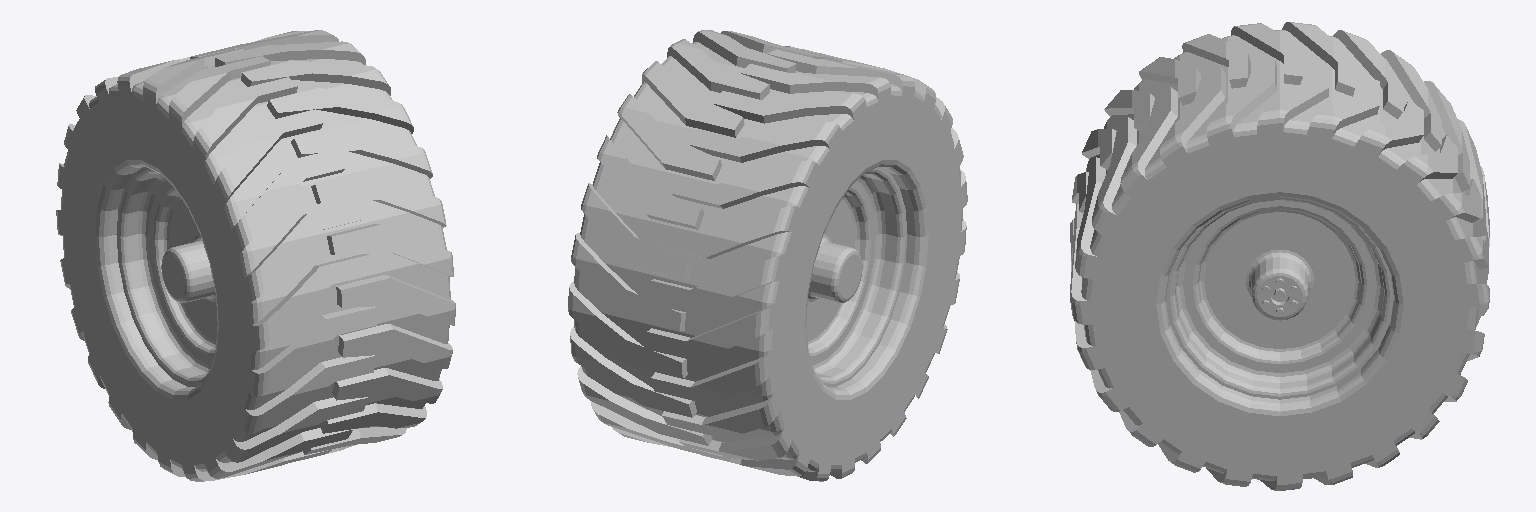
Rendered from ExLWheel.obj.
The picture shows the model from 3 angles: view 1: azimuth 30°, elevation 25°; view 2: azimuth 150°, elevation 25°; view 3: azimuth 270°, elevation 25°; orthographic projection.
Parts seen in each view (by area): view 1: Mesh3 Group3 G_02_1 Model, Mesh1 Group1 G_02_1 Model; view 2: Mesh3 Group3 G_02_1 Model, Mesh1 Group1 G_02_1 Model; view 3: Mesh3 Group3 G_02_1 Model, Mesh2 Group2 G_02_1 Model.
Boxes of the visible parts, x1,y1,x2,y2 form: Mesh3 Group3 G_02_1 Model: [56, 30, 455, 481]; Mesh1 Group1 G_02_1 Model: [116, 167, 217, 386]; Mesh3 Group3 G_02_1 Model: [568, 30, 967, 481]; Mesh1 Group1 G_02_1 Model: [806, 167, 907, 386]; Mesh3 Group3 G_02_1 Model: [1070, 22, 1489, 490]; Mesh2 Group2 G_02_1 Model: [1166, 198, 1393, 399].
Bounding box in the file's own units: 0.6 × 1.1 × 1.1.